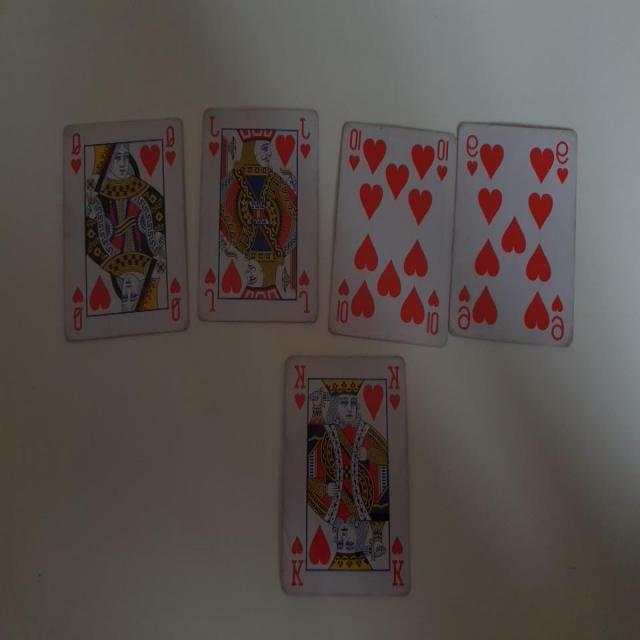10 of hearts: (324, 108, 459, 346)
9 of hearts: (446, 121, 581, 358)
jack of hearts: (190, 96, 324, 326)
king of hearts: (277, 352, 413, 599)
queen of hearts: (59, 113, 192, 346)
